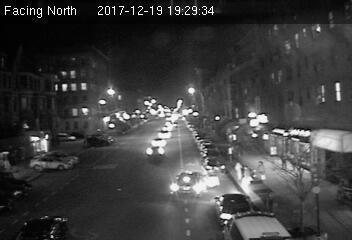car: (212, 192, 257, 223), (171, 168, 206, 197), (145, 145, 164, 160), (150, 136, 167, 148)
police: (217, 209, 296, 240)
